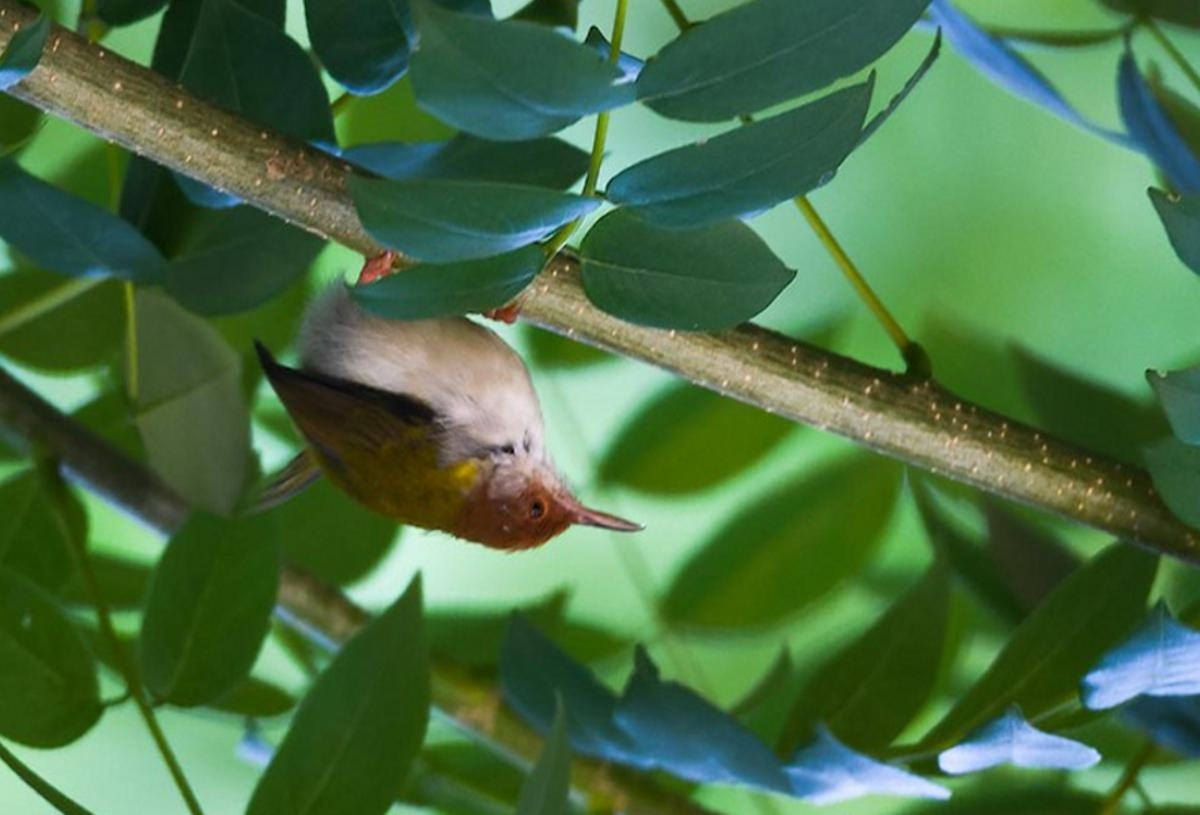tailorbird: (259, 235, 644, 578)
